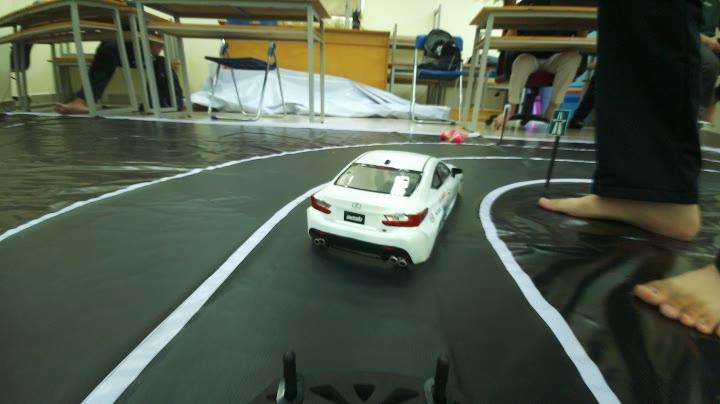car: (312, 140, 462, 272)
highway_entry: (544, 106, 572, 139)
